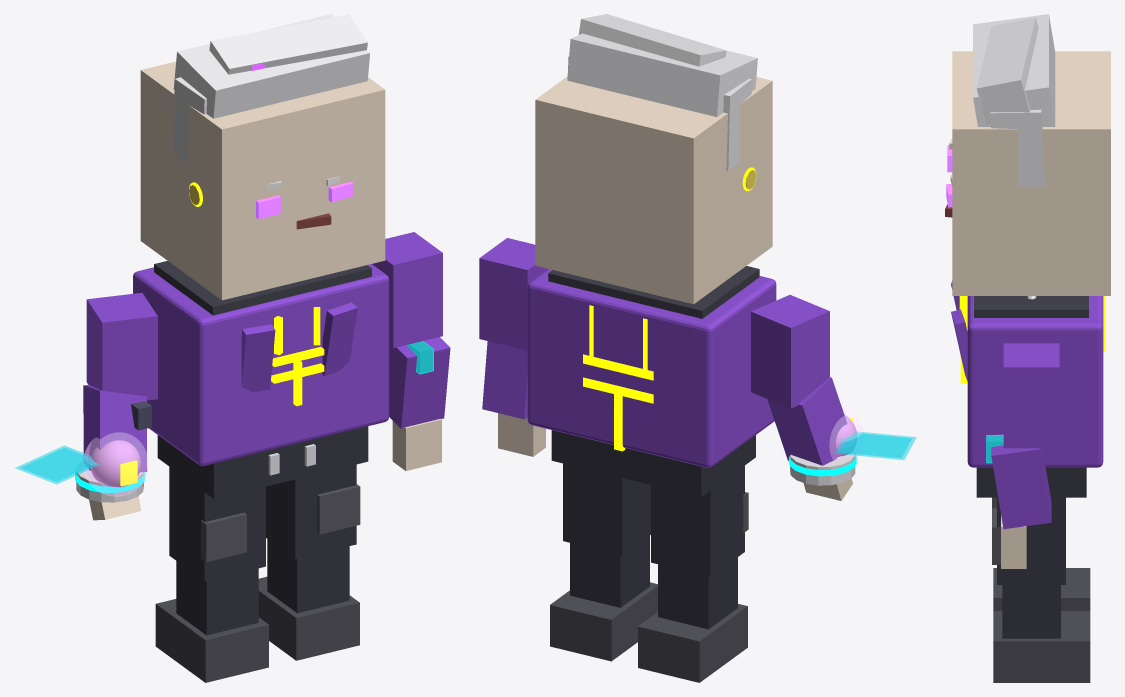
The model's file is ShrewdMerchant_NPC.fbx.
3 views of the same model, side by side, from view 1: azimuth 30°, elevation 25°; view 2: azimuth 150°, elevation 25°; view 3: azimuth 270°, elevation 25° (orthographic). The views are drawn at different scales.
Parts seen in each view (by area): view 1: Head, JacketBody, HairMain, LeftUpperArm, Hips, LeftThigh, RightUpperArm, LeftShoe, HairTop, RightThigh, RightShoe, LeftShin (+16 smaller); view 2: Head, JacketBody, HairMain, LeftThigh, LeftUpperArm, RightThigh, Hips, LeftShoe, RightUpperArm, RightShoe, LeftShin, RightShin (+12 smaller); view 3: Head, JacketBody, RightUpperArm, RightShoe, HairTop, RightForearm, HairMain, RightThigh, RightShin, Torso, HairSideR, Hips (+5 smaller).
Boxes of the visible parts, x1,y1,x2,y2 form: Head: (140,61,385,300); JacketBody: (133,264,389,466); HairMain: (173,14,370,118); LeftUpperArm: (86,292,157,400); Hips: (157,426,368,498); LeftThigh: (169,467,265,581); RightUpperArm: (372,232,442,348); LeftShoe: (155,599,268,682); HairTop: (209,14,367,74); RightThigh: (266,464,356,559); RightShoe: (258,576,359,660); LeftShin: (176,561,258,635); Head: (535,76,772,304); JacketBody: (527,269,776,467); HairMain: (567,33,757,116); LeftThigh: (651,465,744,576); LeftUpperArm: (751,295,829,408); RightThigh: (563,463,650,555); Hips: (551,430,755,497); LeftShoe: (638,604,747,682); RightUpperArm: (479,238,547,350); RightShoe: (550,582,657,661); LeftShin: (658,557,737,629); RightShin: (570,536,649,607); Head: (952,51,1110,295); JacketBody: (967,296,1103,467); RightUpperArm: (1003,343,1059,448); RightShoe: (993,611,1090,682); HairTop: (976,18,1038,124); RightForearm: (991,434,1051,529); HairMain: (973,14,1055,126); RightThigh: (997,497,1065,584); RightShin: (1002,585,1060,638); Torso: (974,296,1088,317); HairSideR: (990,109,1045,186); Hips: (976,467,1086,497).
Bounding box in the file's own units: 185 × 261 × 64.86.
